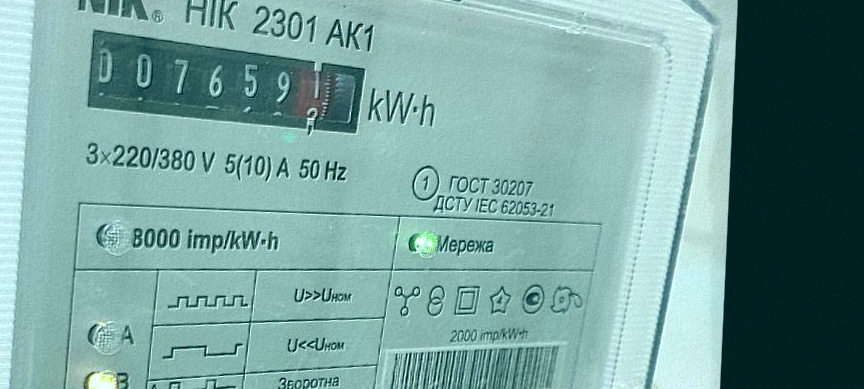0: (131, 49, 157, 91), (92, 44, 117, 86)
1: (307, 69, 326, 103)
5: (239, 61, 261, 100)
6: (204, 60, 227, 100)
7: (170, 56, 190, 96)
9: (273, 68, 292, 106)
screen: (76, 20, 375, 153)
